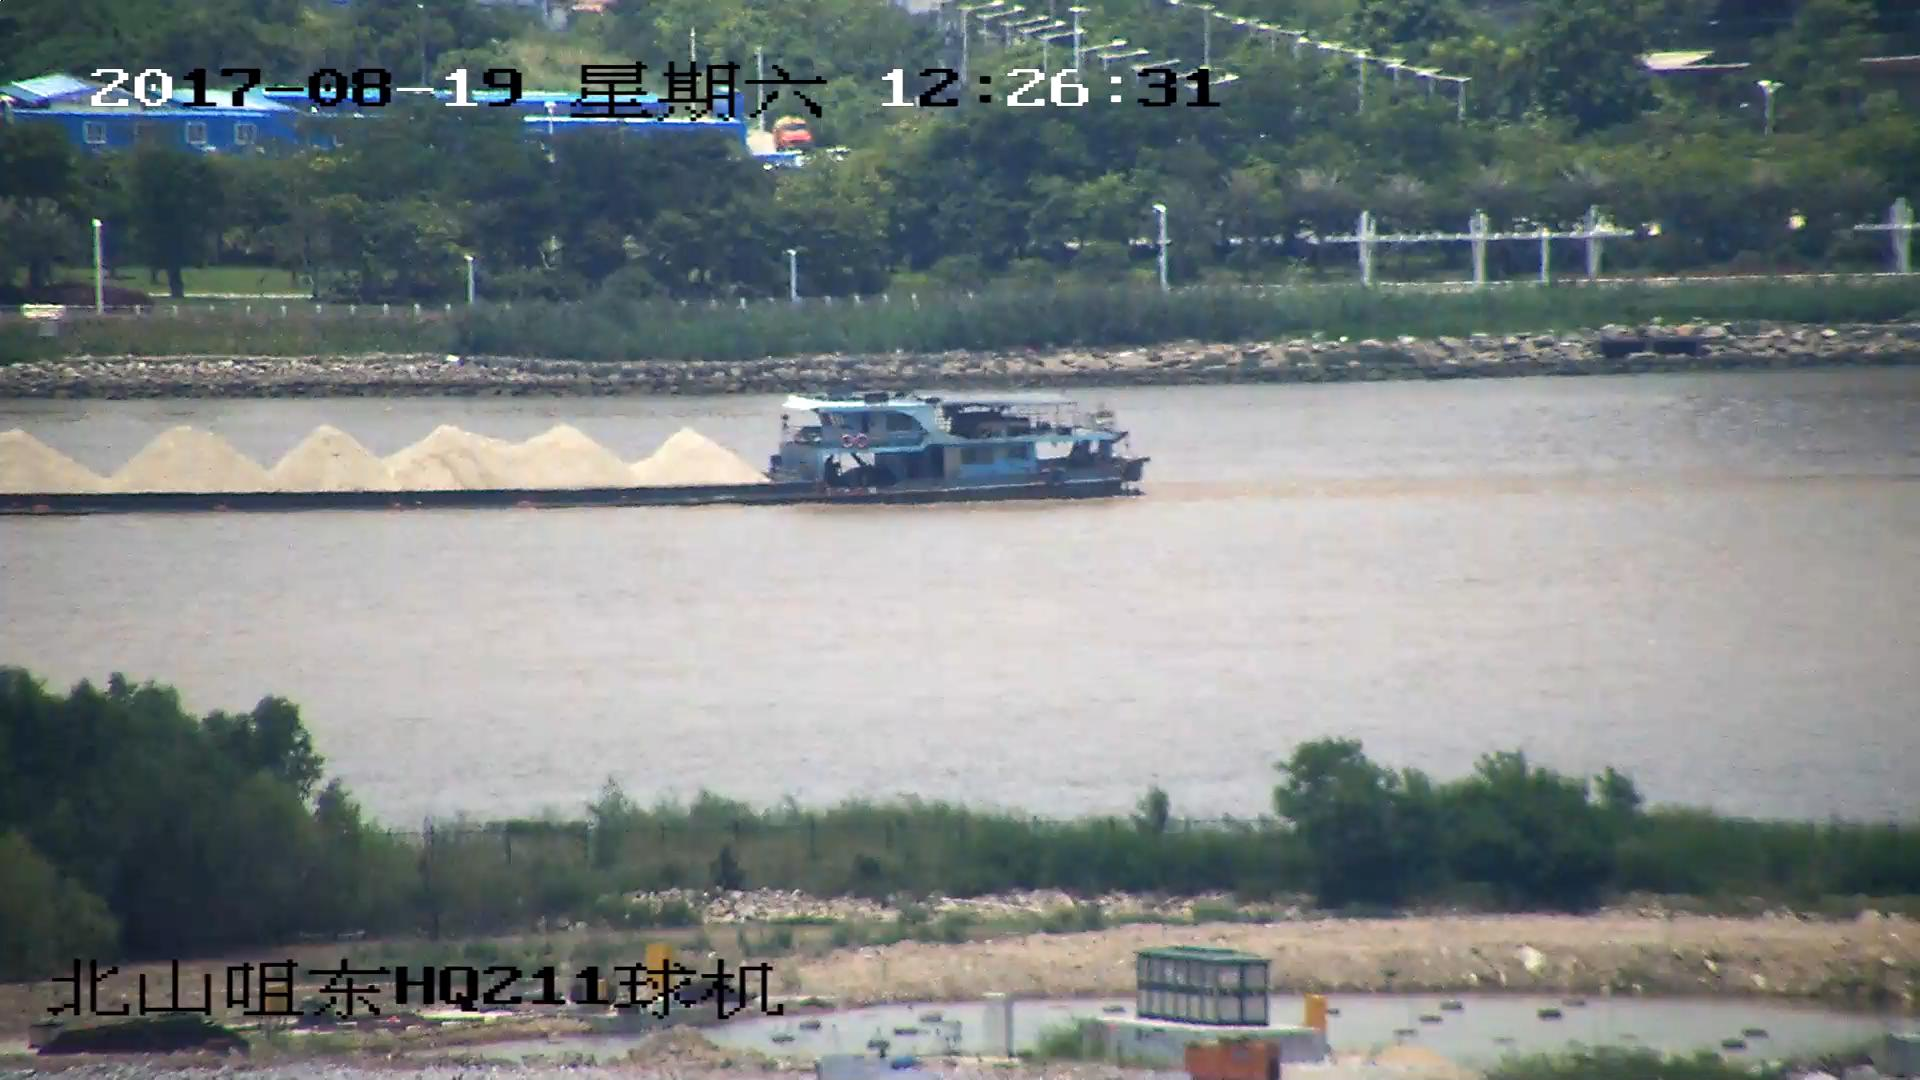ore carrier: (1, 387, 1142, 515)
